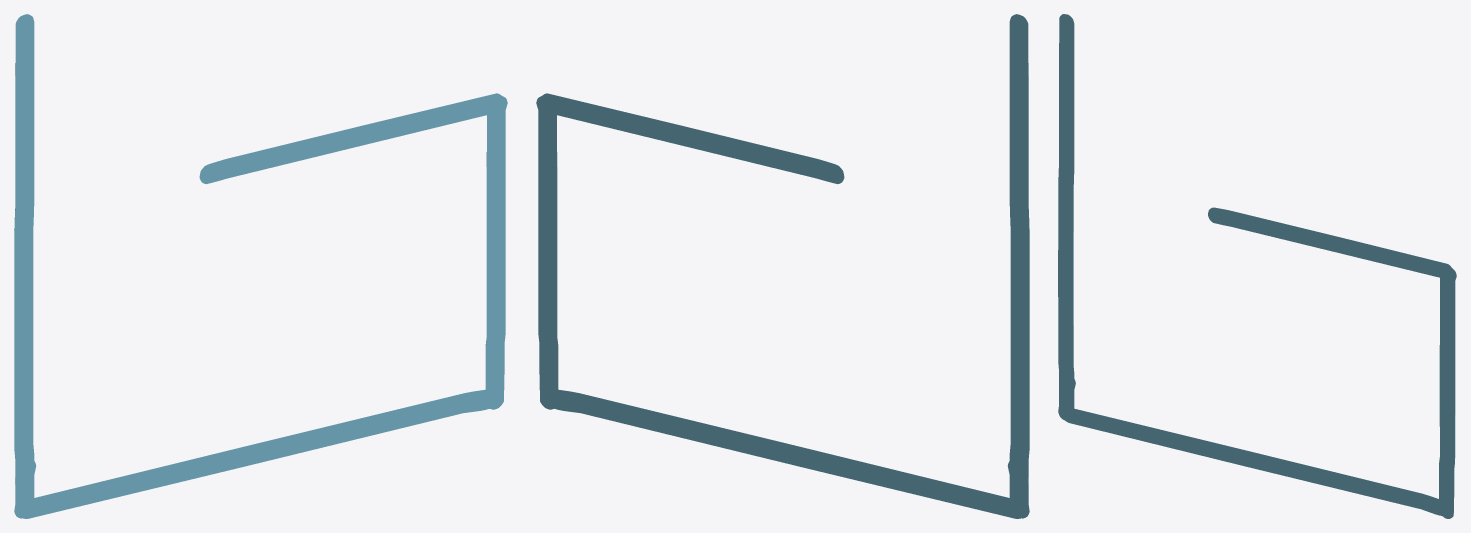
Rendered from tinker.obj.
3 views of the same model, side by side, from view 1: azimuth 30°, elevation 25°; view 2: azimuth 150°, elevation 25°; view 3: azimuth 330°, elevation 25° (orthographic). The views are drawn at different scales.
Parts seen in each view (by area): view 1: obj_0; view 2: obj_0; view 3: obj_0.
Boxes of the visible parts, box(x1,y1,x2,y2) form: obj_0: box(14, 14, 507, 518); obj_0: box(536, 14, 1029, 518); obj_0: box(1058, 14, 1456, 518).
Bounding box in the file's own units: 52.05 × 51.37 × 0.01.
